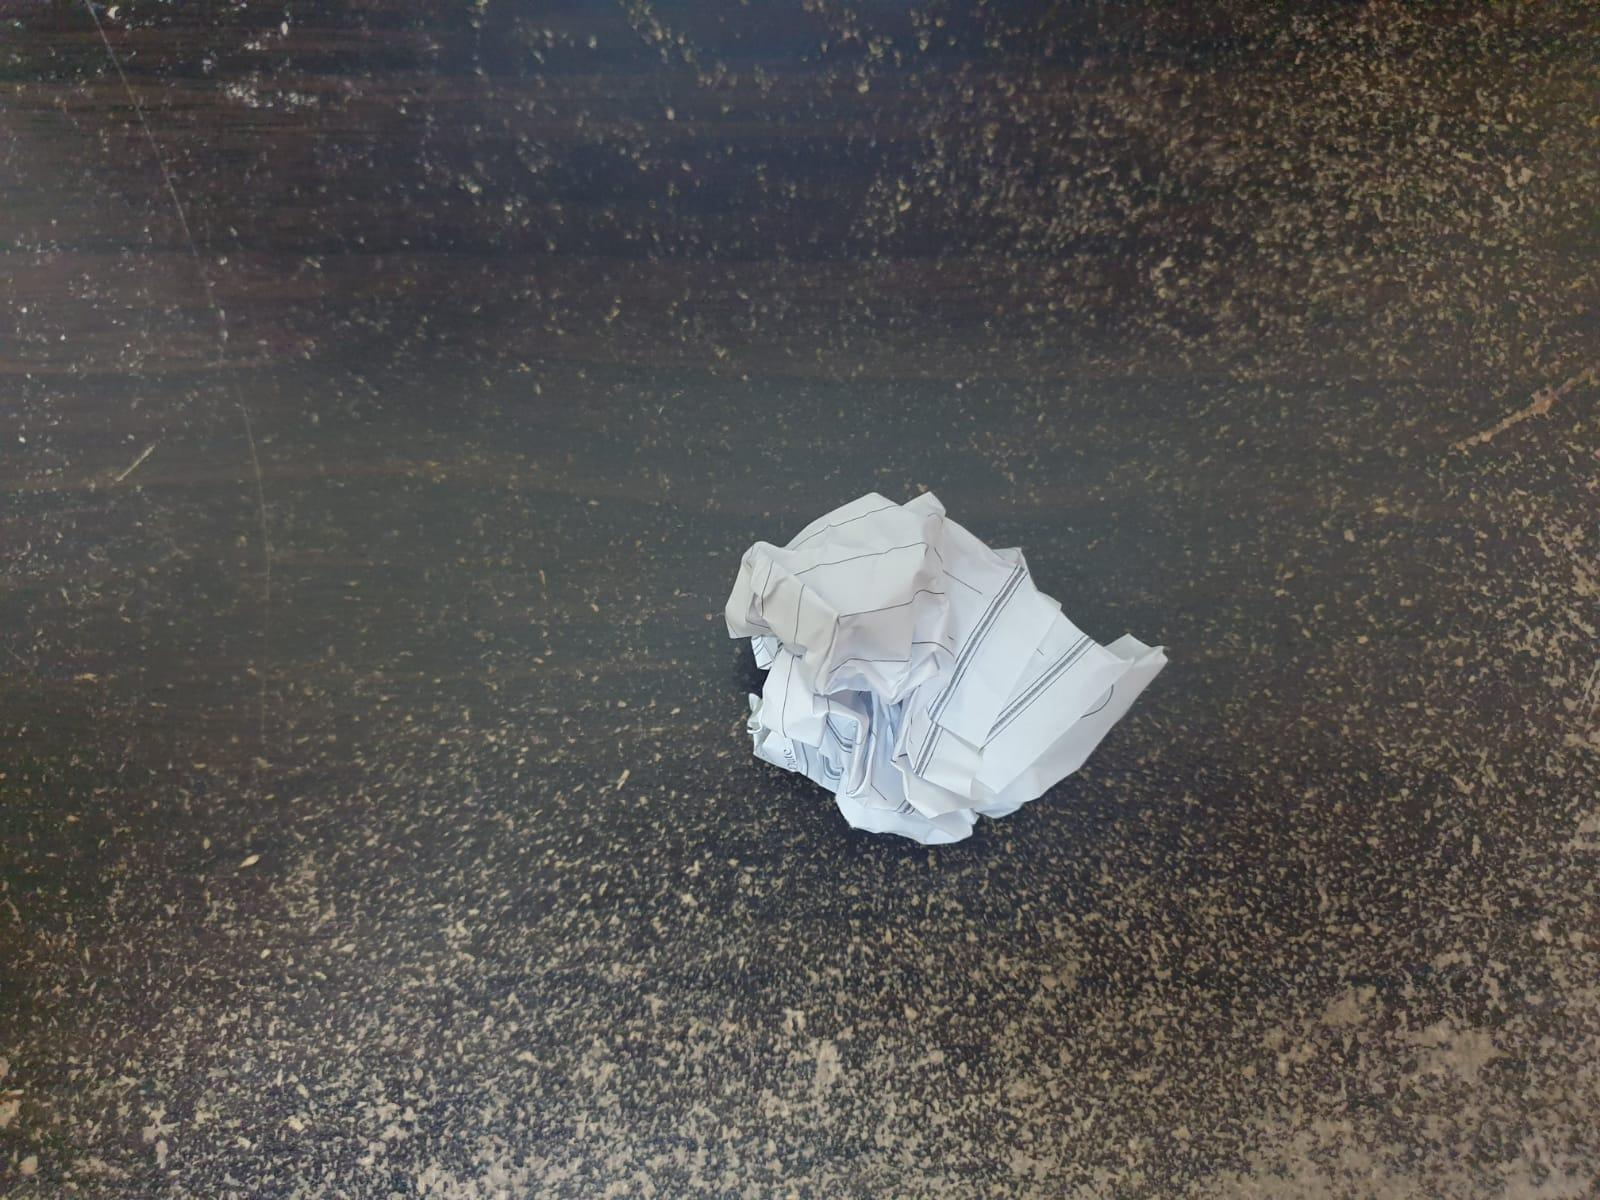Paper: (726, 471, 1171, 853)
